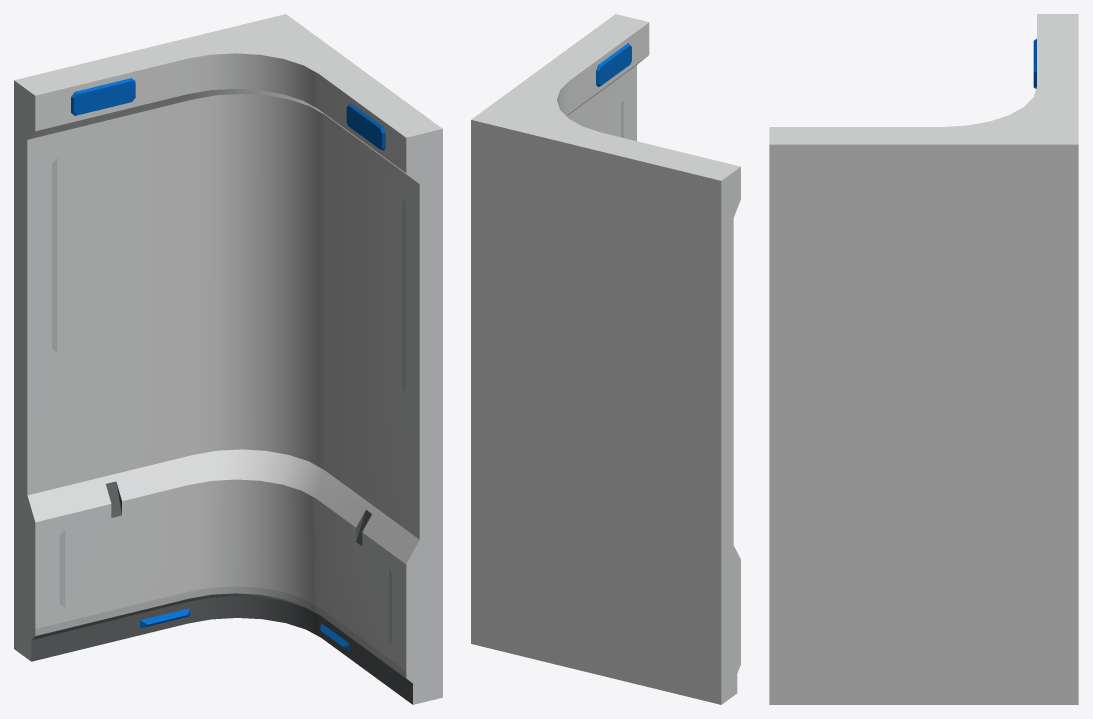
The model's file is Wall_type_A_069.fbx.
3 renders of one model, left to right at view 1: azimuth 30°, elevation 25°; view 2: azimuth 150°, elevation 25°; view 3: azimuth 270°, elevation 25°, orthographic. The views are drawn at different scales.
Visible parts, largest first — view 1: Wall_type_A_069; view 2: Wall_type_A_069; view 3: Wall_type_A_069.
Boxes of the visible parts, box(x1,y1,x2,y2) form: Wall_type_A_069: box(14, 14, 442, 704); Wall_type_A_069: box(471, 14, 740, 704); Wall_type_A_069: box(769, 14, 1078, 704).
Bounding box in the file's own units: 200 × 200 × 400.
